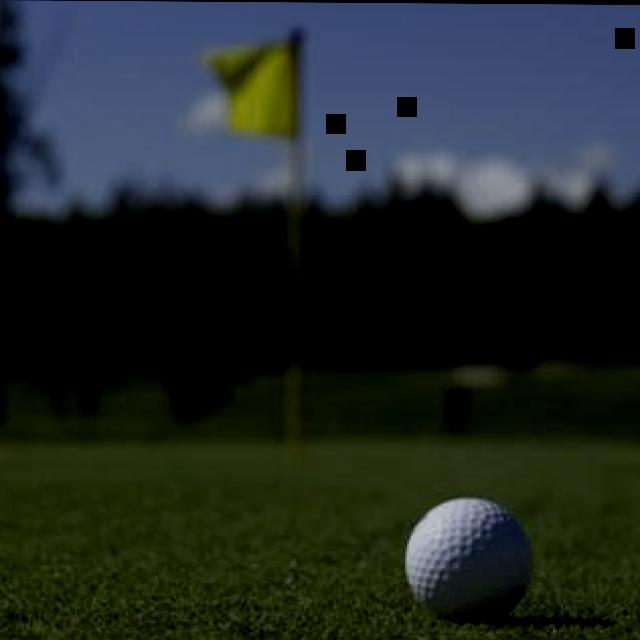golf ball: (393, 480, 545, 633)
